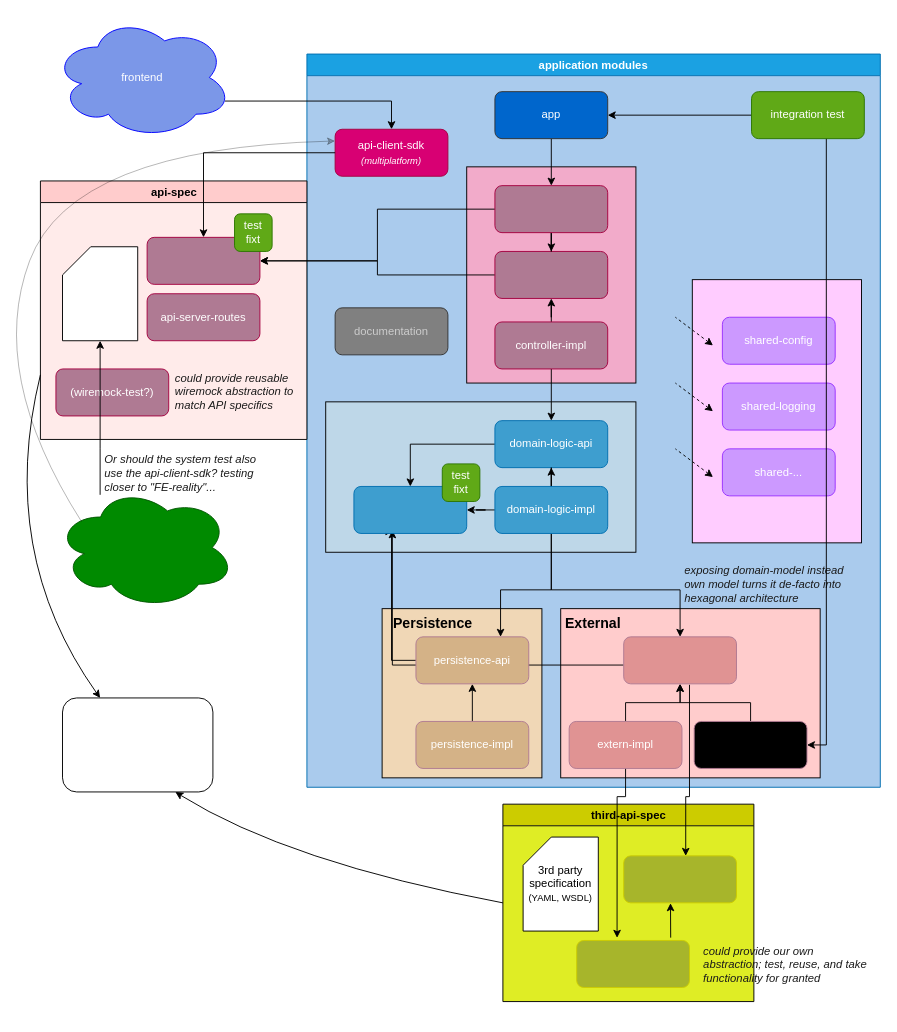
Some shapes in this 897 by 1032 pixel diagram are drawn without their labels. Here are the shapes that lost their labels. From the top down, the centre of each, then its label:
[551,209]: view-routing
[203,260]: api-model (multiplatform)
[551,274]: controller-api
[100,293]: openAPI specification
[410,509]: domain-model
[145,547]: system test
[679,660]: extern-api
[137,744]: custom openAPI generators
[750,744]: extern-stub
[679,879]: api-model
[632,963]: (api-client-sdk?)
